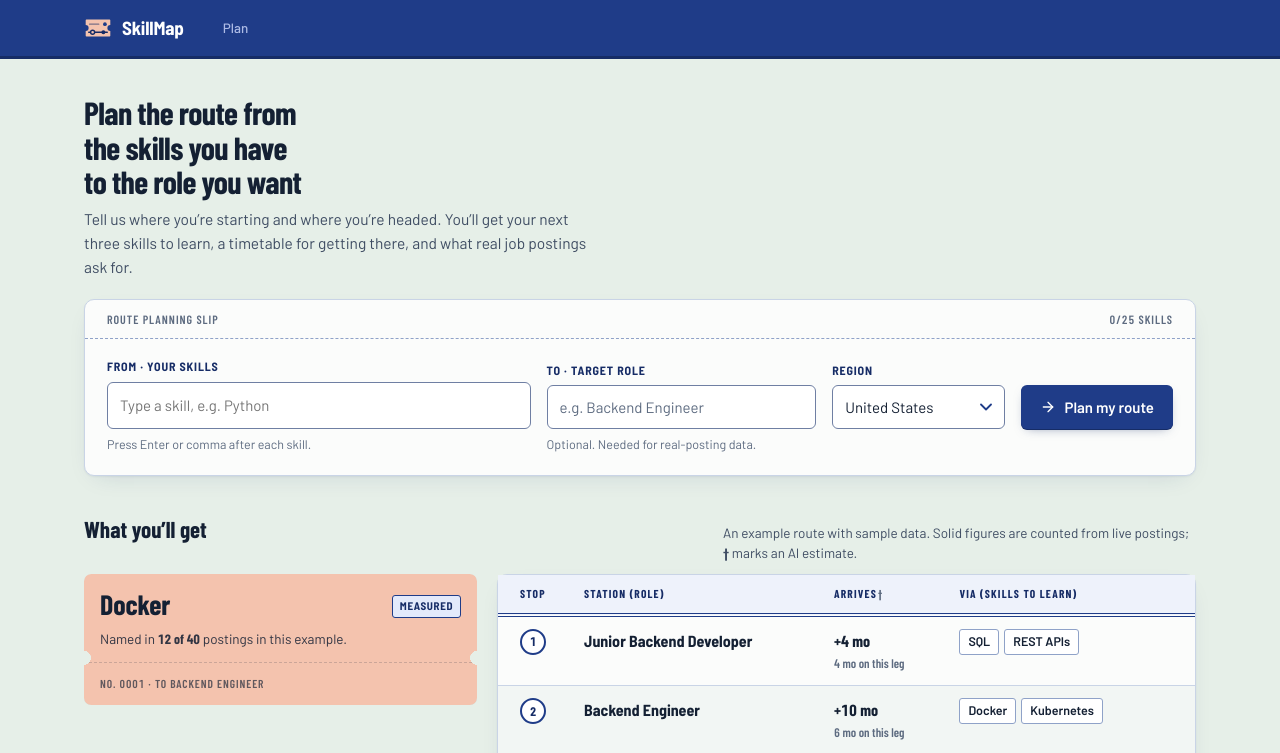
Test: App behaviour › supports Home and End on the route tabs
The image size is (1280, 753).
In the dropdown labelled "From · your skills": (319,406) [116,389,522,422], type "React"
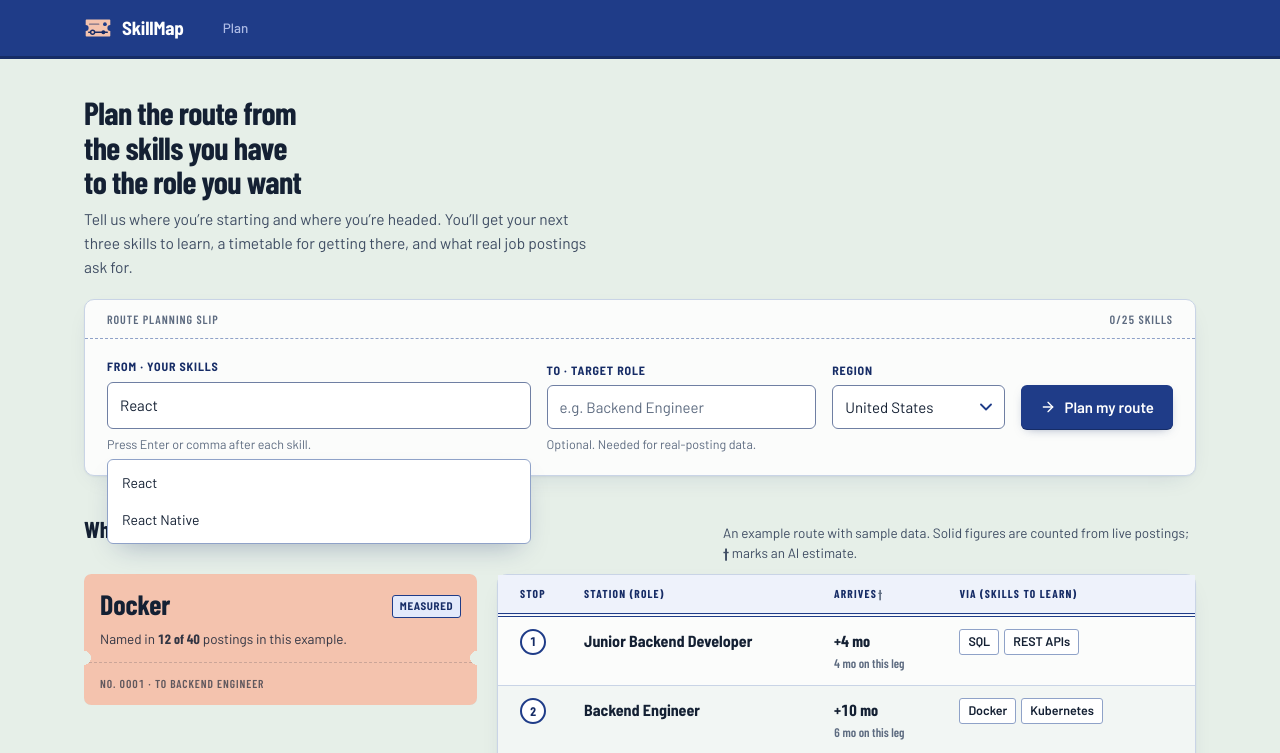
Press Enter in the dropdown labelled "From · your skills", box [116,389,522,422]
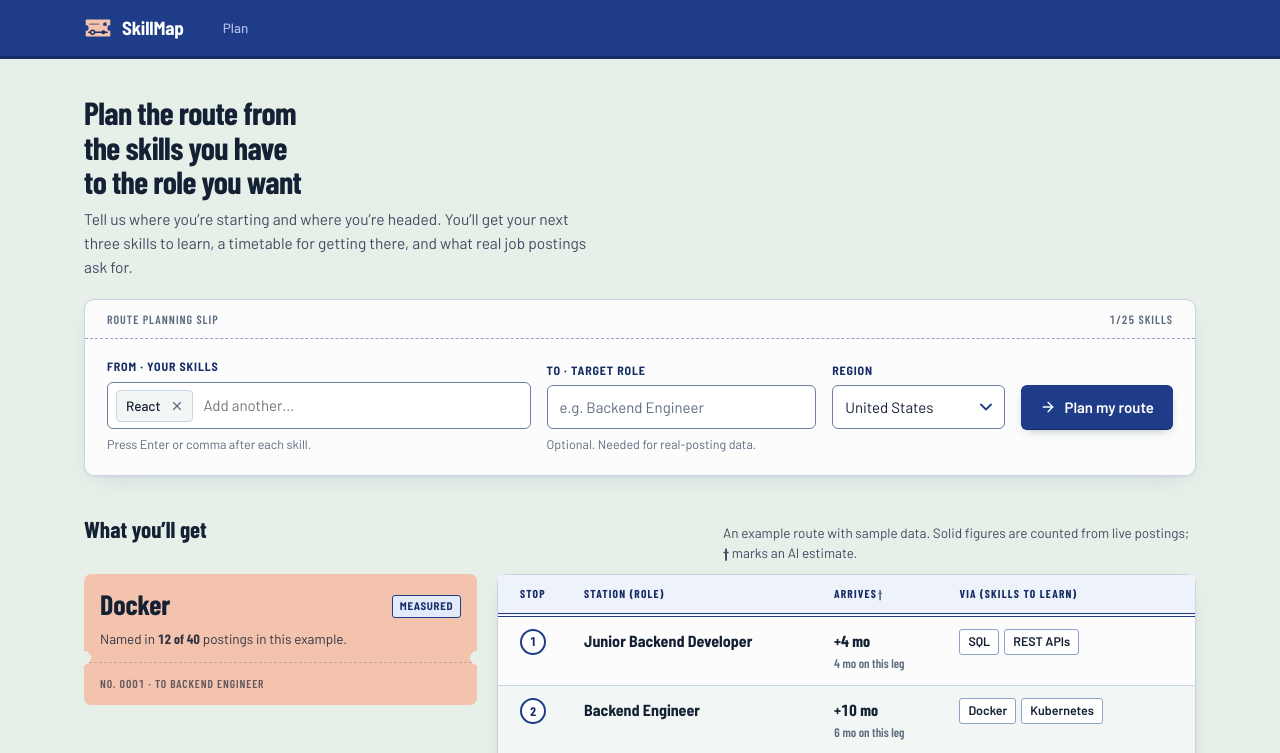
Click the button "Plan my route": (1097,407) [1022,385,1173,429]
(page scrolled)
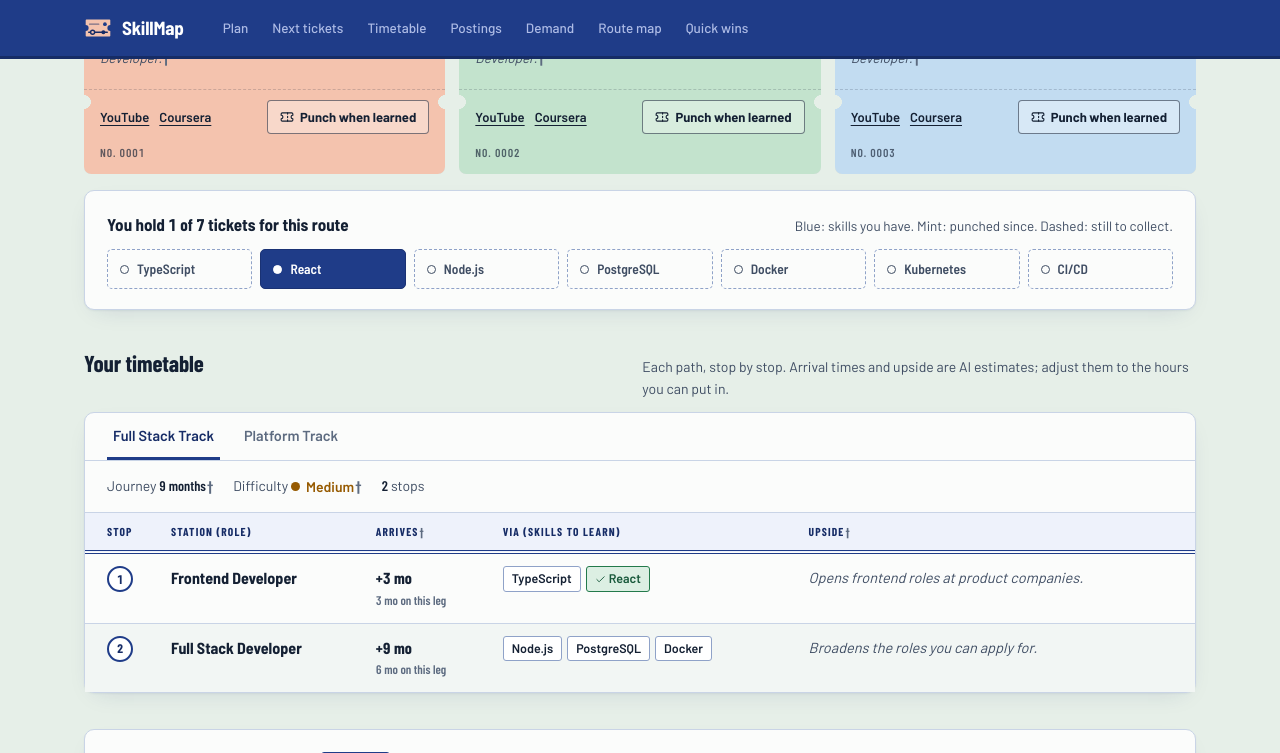
Press End in the tab "Full Stack Track", box [107,412,220,460]
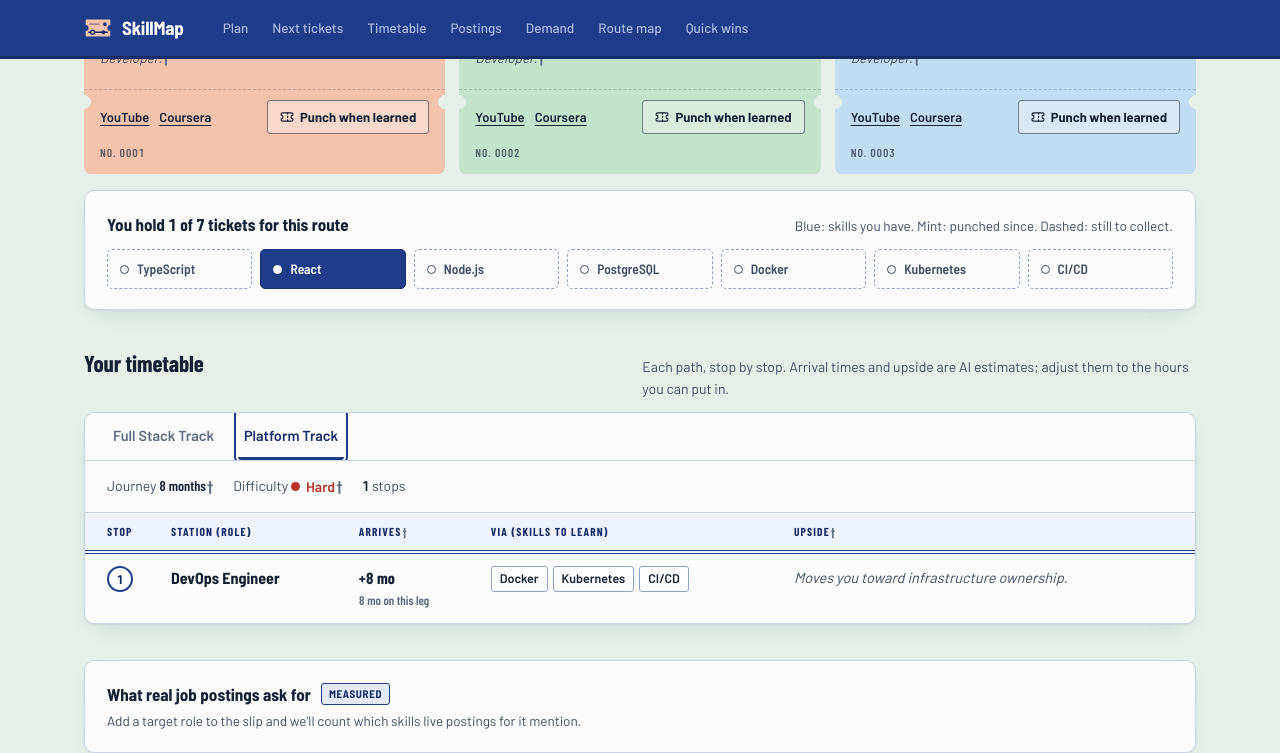
Expected: the tab "Platform Track" is selected
Press Home in the tab "Platform Track", box [238,412,344,460]
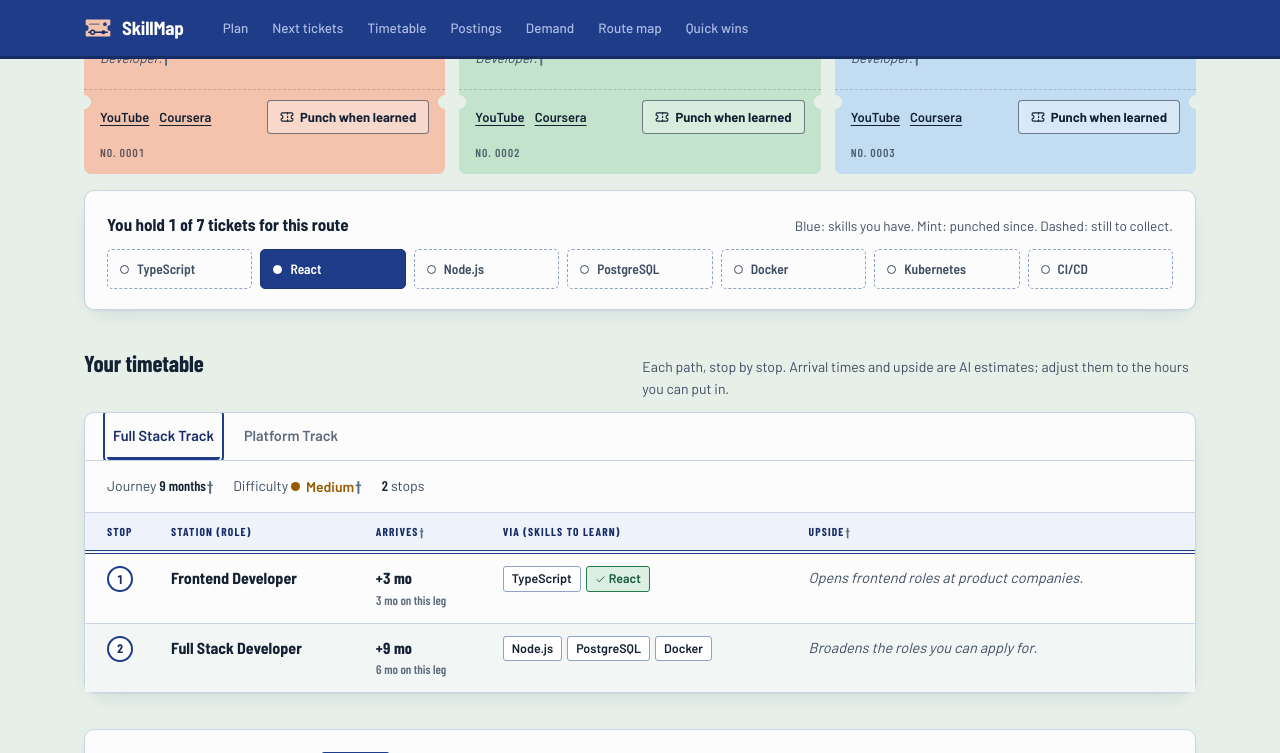
Expected: the tab "Full Stack Track" is selected, [107,413,220,460]
